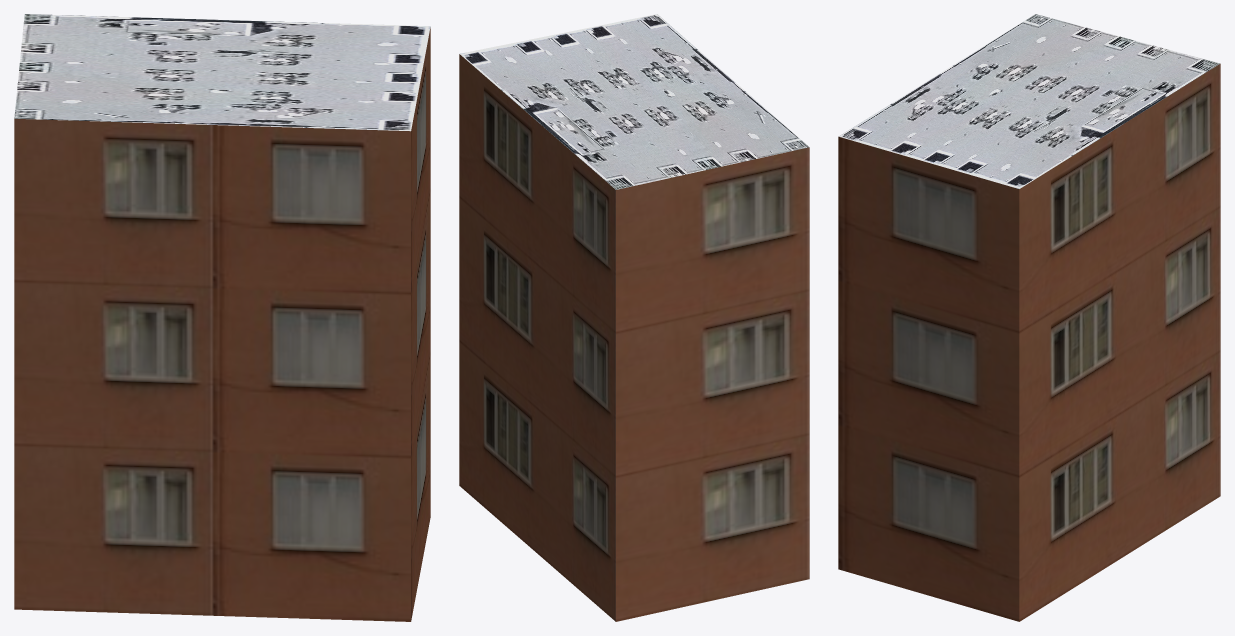
The model's file is ResTex__3372.fbx.
The picture shows the model from 3 angles, left to right: view 1: azimuth 30°, elevation 25°; view 2: azimuth 150°, elevation 25°; view 3: azimuth 270°, elevation 25°; orthographic projection. The views are drawn at different scales.
Visible parts, largest first — view 1: CityEngineMaterial_20_m, CityEngineMaterial_2_m; view 2: CityEngineMaterial_20_m, CityEngineMaterial_2_m; view 3: CityEngineMaterial_20_m, CityEngineMaterial_2_m.
Boxes of the visible parts, x1,y1,x2,y2 form: CityEngineMaterial_20_m: (14, 27, 430, 621); CityEngineMaterial_2_m: (14, 14, 430, 131); CityEngineMaterial_20_m: (459, 54, 809, 621); CityEngineMaterial_2_m: (460, 14, 808, 189); CityEngineMaterial_20_m: (838, 63, 1220, 621); CityEngineMaterial_2_m: (839, 14, 1219, 188).
Size of the model in its own units: 7.81 by 9 by 7.2.
Materials: 2 (2 with a texture image).
